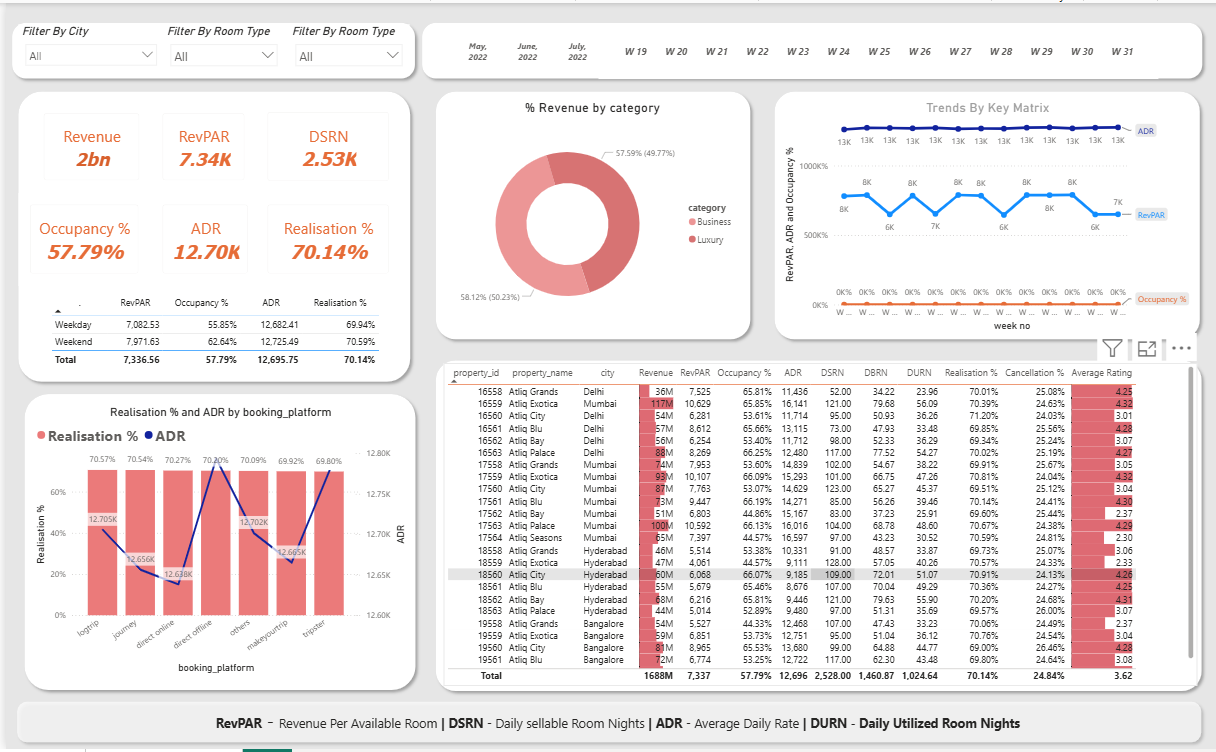

The dashboard page shown, as its layout file describes it:
{"tool":"powerbi","page":{"name":"Page 1","canvas":[1784,1100],"ordinal":0},"visuals":[{"type":"shape","box":[625.7,517.1,1147.1,505.7],"z":0},{"type":"shape","box":[18.6,567.1,594.3,454.3],"z":1000},{"type":"shape","box":[1125,121.7,645,383.3],"z":2000},{"type":"shape","box":[625,121.7,481.7,383.3],"z":3000},{"type":"shape","box":[10,121.4,595.7,445.7],"z":4000},{"type":"shape","box":[604.2,20.8,1168.3,100],"z":5000},{"type":"shape","box":[0,20,612,100],"z":6000},{"type":"tableEx","fields":{"Values":["dim_hotels.property_id","dim_hotels.property_name","dim_hotels.city","key_measures.Revenue","key_measures.RevPAR","key_measures.Occupancy %","key_measures.ADR","key_measures.DSRN","key_measures.DBRN","key_measures.DURN","key_measures.Realisation %","key_measures.Cancellation %"]},"box":[644.3,531.4,1111.4,474.3],"z":7000},{"type":"slicer","title":"Filter By City","fields":{"Values":["dim_hotels.city"]},"box":[18,32,214,76],"z":8000},{"type":"slicer","title":"Filter By Room Type","fields":{"Values":["dim_rooms.room_class"]},"box":[232,32,178,76],"z":9000},{"type":"slicer","fields":{"Values":["dim_date.week no"]},"box":[873.8,30.6,825.6,80.6],"z":10000},{"type":"cardVisual","fields":{"Data":["key_measures.Revenue"]},"box":[38.5,146.2,175.4,133.8],"z":11000},{"type":"donutChart","fields":{"Category":["dim_hotels.category"],"Y":["key_measures.Occupancy %"]},"box":[645,143.3,440,343.3],"z":12000},{"type":"cardVisual","fields":{"Data":["key_measures.RevPAR"]},"box":[213.1,146.2,155.4,133.8],"z":13000},{"type":"cardVisual","fields":{"Data":["key_measures.DSRN"]},"box":[368.5,143.8,213.8,136.2],"z":14000},{"type":"cardVisual","fields":{"Data":["key_measures.ADR"]},"box":[213.1,280,160,136.9],"z":15000},{"type":"cardVisual","fields":{"Data":["key_measures.Occupancy %"]},"box":[18.5,280,194.6,136.9],"z":16000},{"type":"cardVisual","fields":{"Data":["key_measures.Realisation %"]},"box":[368.5,280,213.8,136.9],"z":17000},{"type":"lineChart","title":"Trends By Key Matrix","fields":{"Category":["dim_date.week no","dim_date.mmm yy.Variation.Date Hierarchy.Month"],"Y":["key_measures.RevPAR","key_measures.ADR","key_measures.Occupancy %"]},"box":[1143.3,143.3,610,345],"z":18000},{"type":"lineStackedColumnComboChart","fields":{"Category":["fact_bookings.booking_platform"],"Y":["key_measures.Realisation %"],"Y2":["key_measures.ADR"]},"box":[38.6,594.3,555.7,400],"z":19000},{"type":"tableEx","fields":{"Values":["dim_date.day_type","key_measures.RevPAR","key_measures.Occupancy %","key_measures.ADR","key_measures.Realisation %"]},"box":[65.7,428.6,485.7,117.1],"z":20000},{"type":"shape","box":[8,1022,1764,78],"z":21000},{"type":"textbox","box":[198,1036,1410,52],"z":22000},{"type":"slicer","title":"Filter By Room Type","fields":{"Values":["dim_rooms.room_class"]},"box":[416,32,178,76],"z":23000},{"type":"slicer","fields":{"Values":["dim_date.mmm yy"]},"box":[634.3,32.9,268.6,75.7],"z":24000}]}

Visuals, with their boxes in screenshot pixels (x1, y1, x2, y2), scaled from the page's 1784x1100 canvas onto the 1216x752 screenshot:
shape: <region>426, 354, 1208, 699</region>
shape: <region>13, 388, 418, 698</region>
shape: <region>767, 83, 1206, 345</region>
shape: <region>426, 83, 754, 345</region>
shape: <region>7, 83, 413, 388</region>
shape: <region>412, 14, 1208, 83</region>
shape: <region>0, 14, 417, 82</region>
tableEx - dim_hotels.property_id x dim_hotels.property_name: <region>439, 363, 1197, 688</region>
"Filter By City" slicer: <region>12, 22, 158, 74</region>
"Filter By Room Type" slicer: <region>158, 22, 279, 74</region>
slicer - dim_date.week no: <region>596, 21, 1158, 76</region>
cardVisual - key_measures.Revenue: <region>26, 100, 146, 191</region>
donutChart - dim_hotels.category x key_measures.Occupancy %: <region>440, 98, 740, 333</region>
cardVisual - key_measures.RevPAR: <region>145, 100, 251, 191</region>
cardVisual - key_measures.DSRN: <region>251, 98, 397, 191</region>
cardVisual - key_measures.ADR: <region>145, 191, 254, 285</region>
cardVisual - key_measures.Occupancy %: <region>13, 191, 145, 285</region>
cardVisual - key_measures.Realisation %: <region>251, 191, 397, 285</region>
"Trends By Key Matrix" lineChart: <region>779, 98, 1195, 334</region>
lineStackedColumnComboChart - fact_bookings.booking_platform x key_measures.Realisation %: <region>26, 406, 405, 680</region>
tableEx - dim_date.day_type x key_measures.RevPAR: <region>45, 293, 376, 373</region>
shape: <region>5, 699, 1208, 751</region>
textbox: <region>135, 708, 1096, 744</region>
"Filter By Room Type" slicer: <region>284, 22, 405, 74</region>
slicer - dim_date.mmm yy: <region>432, 22, 615, 74</region>
